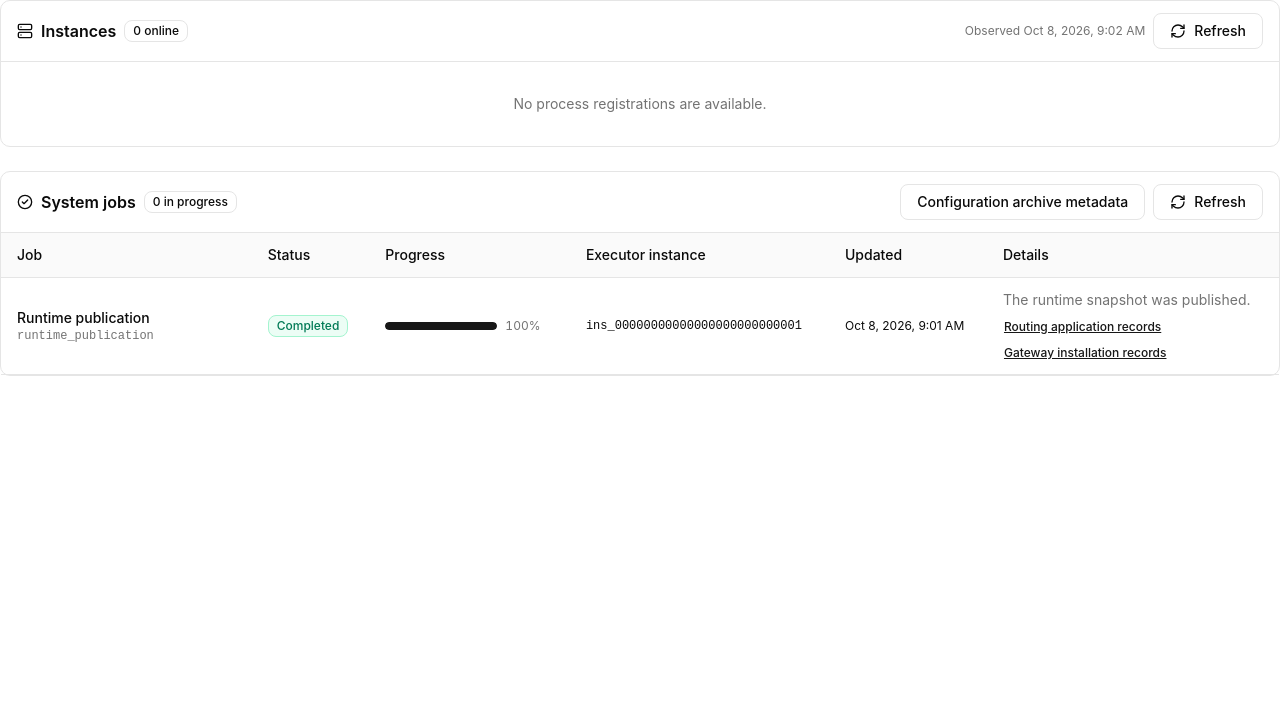
Test case: routing records in the existing System task details › keeps read authority and dismissal working under StrictMode effect replay
What coordinates should you click on to do the following:
click the button "Routing application records"
I would click on:
 (1083, 327)
Its box is [1003,318,1162,336].
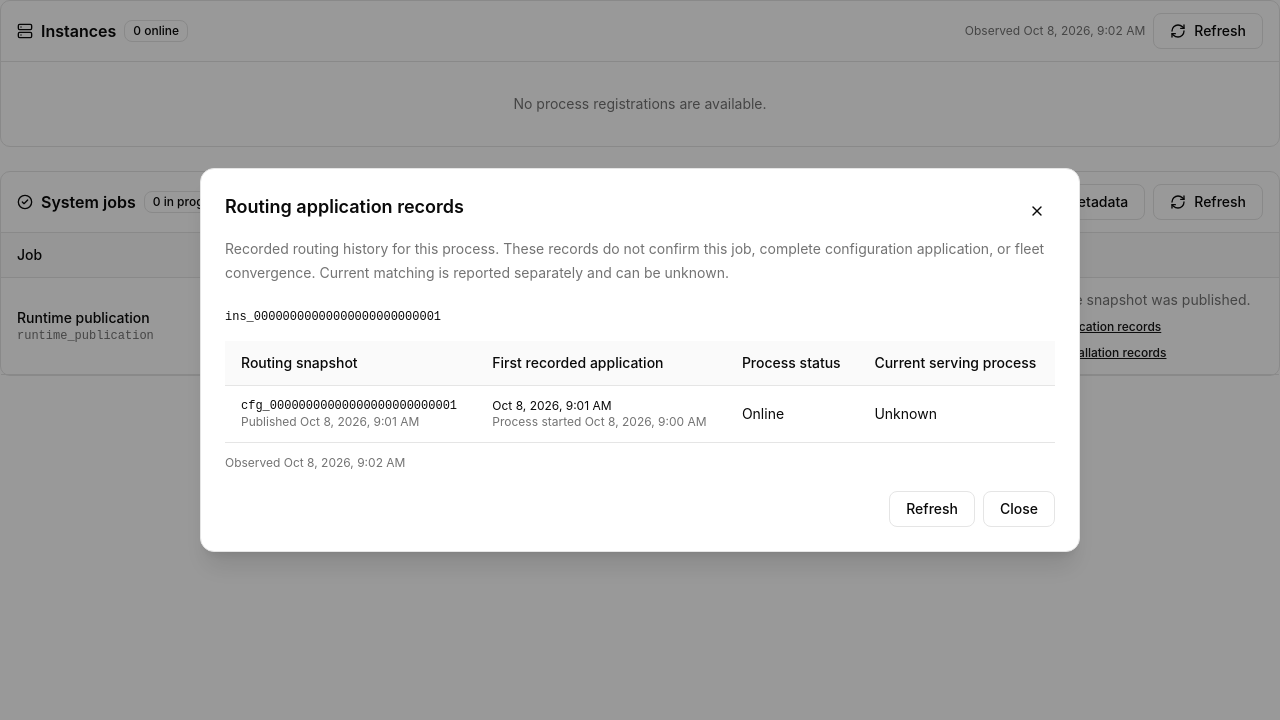
Expected: the dialog shows "cfg_00000000000000000000000001", [241,399,457,413]
What coordinates should you click on to do the following:
click the button "Close"
I would click on:
 (1019, 509)
Its box is [983,491,1055,527].
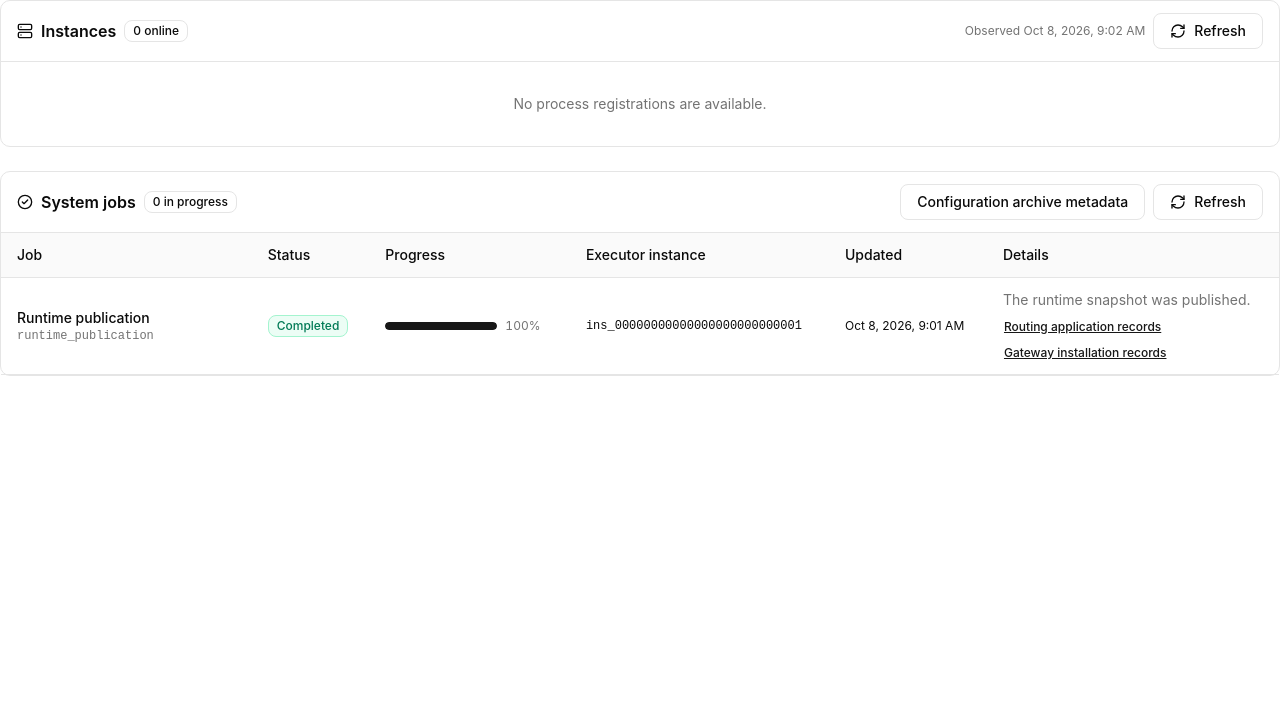
Expected: the dialog is gone
